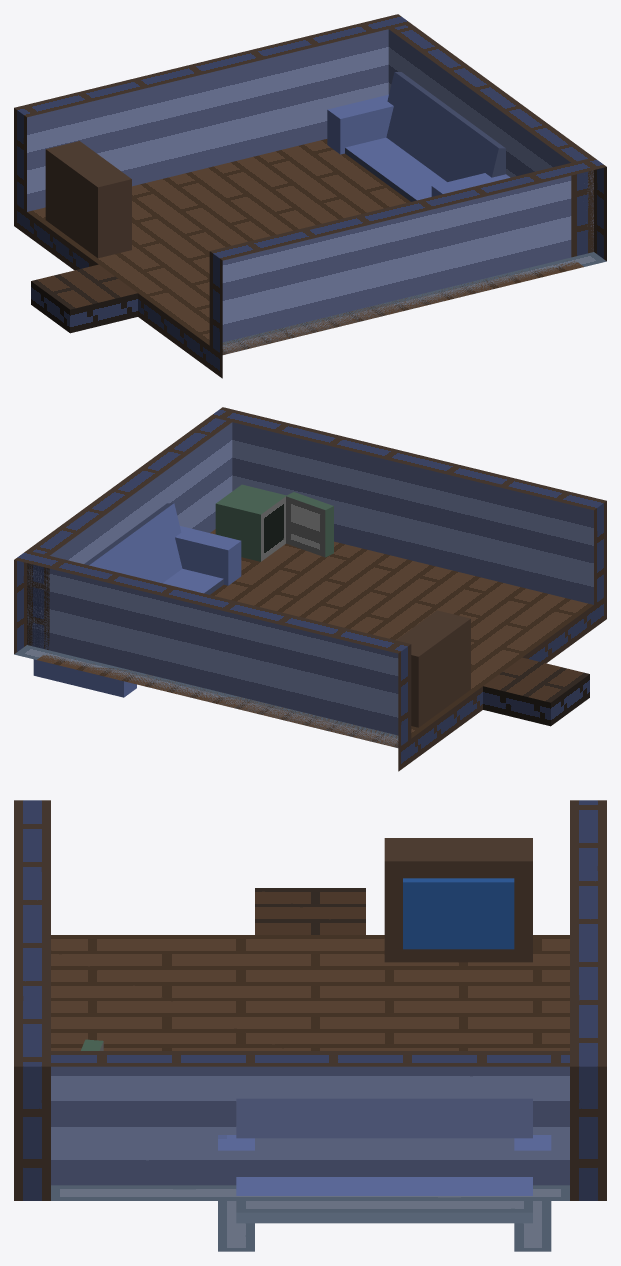
Rendered from ApartamentRoom.gltf.
The picture shows the model from 3 angles, top to bottom: view 1: azimuth 30°, elevation 25°; view 2: azimuth 150°, elevation 25°; view 3: azimuth 270°, elevation 25°; orthographic projection. The views are drawn at different scales.
Parts seen in each view (by area): view 1: wall-col (×3), floor-col, cuboid-col (×4), enterance-col, cuboid; view 2: wall-col (×3), floor-col, cuboid-col (×6), enterance-col, cuboid; view 3: wall-col (×3), floor-col, cuboid-col (×5), cuboid, enterance-col.
Part boxes in pixels (bbox=[...]): wall-col (×3): bbox=[14, 14, 606, 354]; floor-col: bbox=[14, 139, 583, 378]; cuboid-col (×4): bbox=[45, 72, 510, 258]; enterance-col: bbox=[31, 264, 137, 333]; cuboid: bbox=[345, 137, 446, 201]; wall-col (×3): bbox=[14, 407, 606, 747]; floor-col: bbox=[37, 529, 606, 771]; cuboid-col (×6): bbox=[33, 484, 470, 727]; enterance-col: bbox=[483, 657, 589, 726]; cuboid: bbox=[163, 568, 223, 594]; wall-col (×3): bbox=[14, 800, 606, 1200]; floor-col: bbox=[51, 935, 569, 1050]; cuboid-col (×5): bbox=[218, 838, 551, 1251]; cuboid: bbox=[236, 1177, 532, 1212]; enterance-col: bbox=[255, 888, 365, 934].
Size of what is drawn, in the model's own units: 1.29 by 0.3438 by 1.
Materials: 1 (1 with a texture image).
